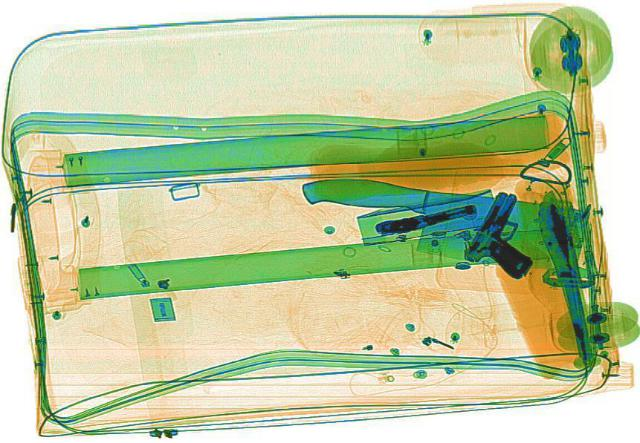Gun: (455, 188, 563, 279), (370, 203, 480, 234)
Knife: (286, 167, 598, 274), (533, 189, 597, 360)
